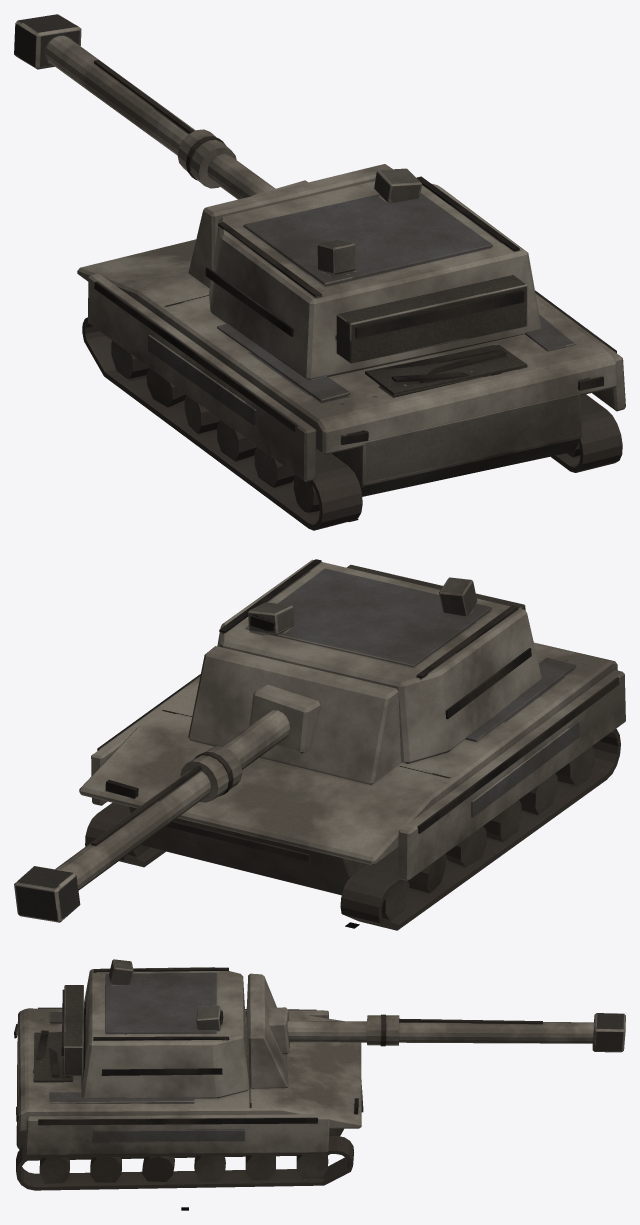
Rendered from ord_paladin_wreck.fbx.
3 renders of one model, top to bottom at view 1: azimuth 30°, elevation 25°; view 2: azimuth 150°, elevation 25°; view 3: azimuth 270°, elevation 25°, orthographic. The views are drawn at different scales.
Visible parts, largest first — view 1: turret_bar, base_bar, trackL_bar, trackR_bar; view 2: turret_bar, base_bar, trackL_bar, trackR_bar; view 3: turret_bar, base_bar, trackR_bar.
Part boxes in pixels (box(x1,y1,x2,y2)): turret_bar: box(14, 14, 541, 379); base_bar: box(77, 239, 625, 496); trackL_bar: box(82, 317, 362, 530); trackR_bar: box(551, 394, 622, 472); turret_bar: box(14, 559, 541, 922); base_bar: box(79, 642, 625, 895); trackL_bar: box(340, 728, 620, 930); trackR_bar: box(85, 802, 165, 867); turret_bar: box(61, 959, 625, 1098); base_bar: box(14, 1007, 363, 1160); trackR_bar: box(16, 1136, 353, 1190).
Bounding box in the file's own units: 658 × 630 × 1543.
2 materials, 2 textured.
